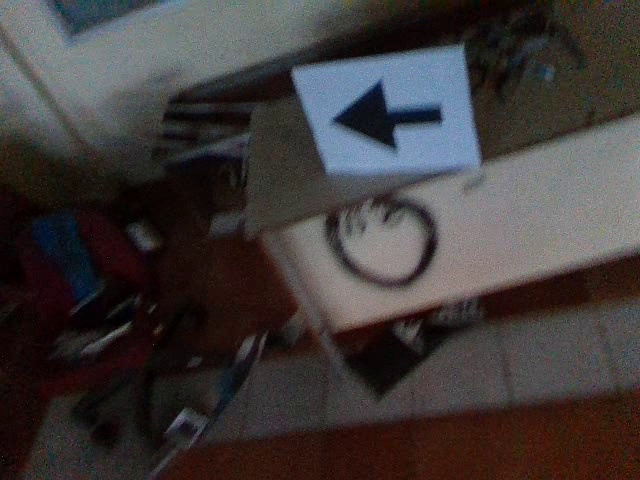Left: (325, 73, 447, 160)
